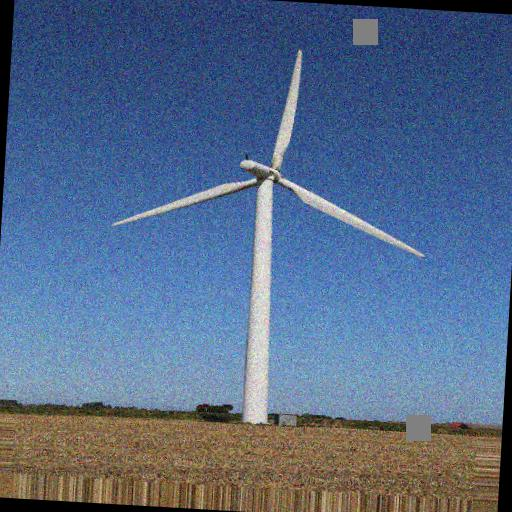wind turbine: (110, 50, 426, 436)
